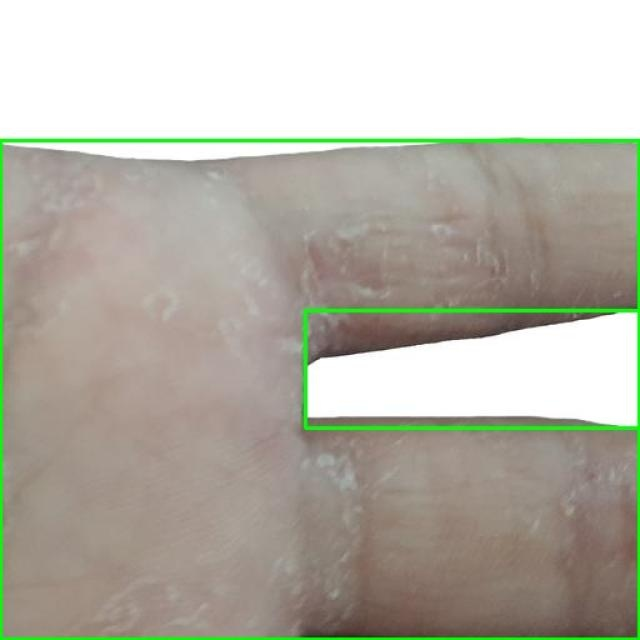Scabies: (0, 140, 639, 639), (305, 310, 639, 428)
